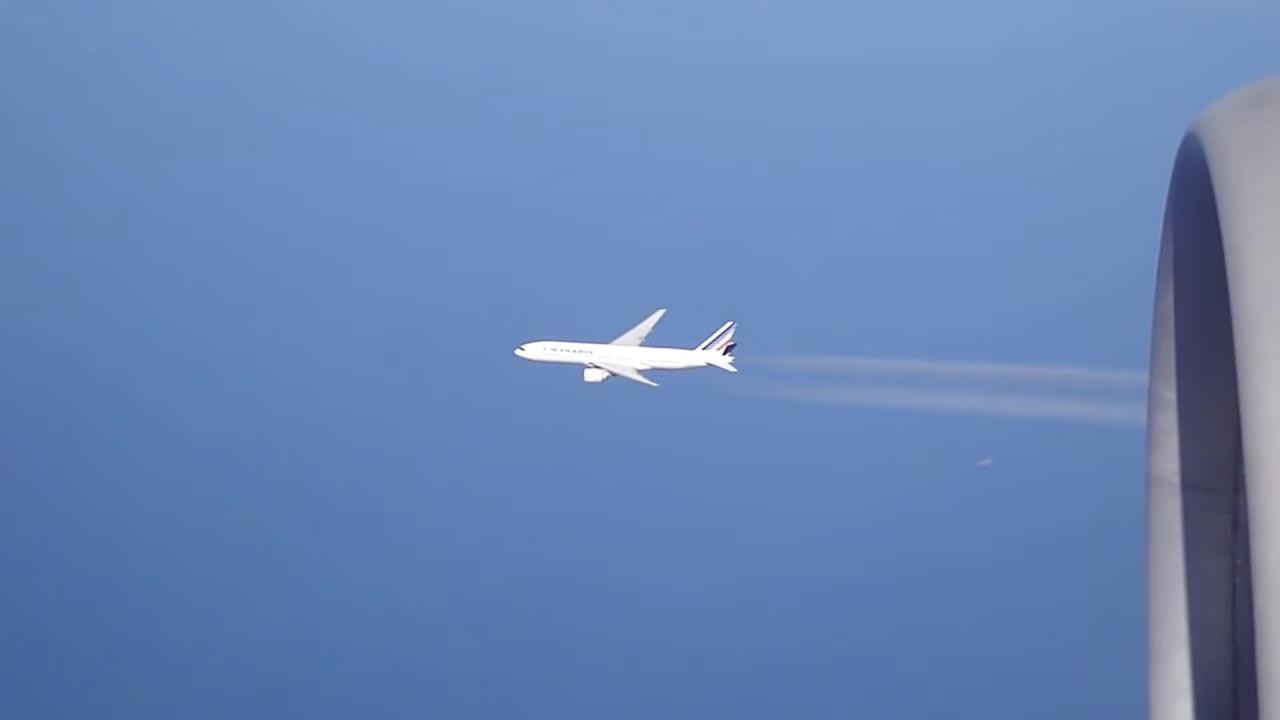Airplane: (505, 294, 744, 401)
